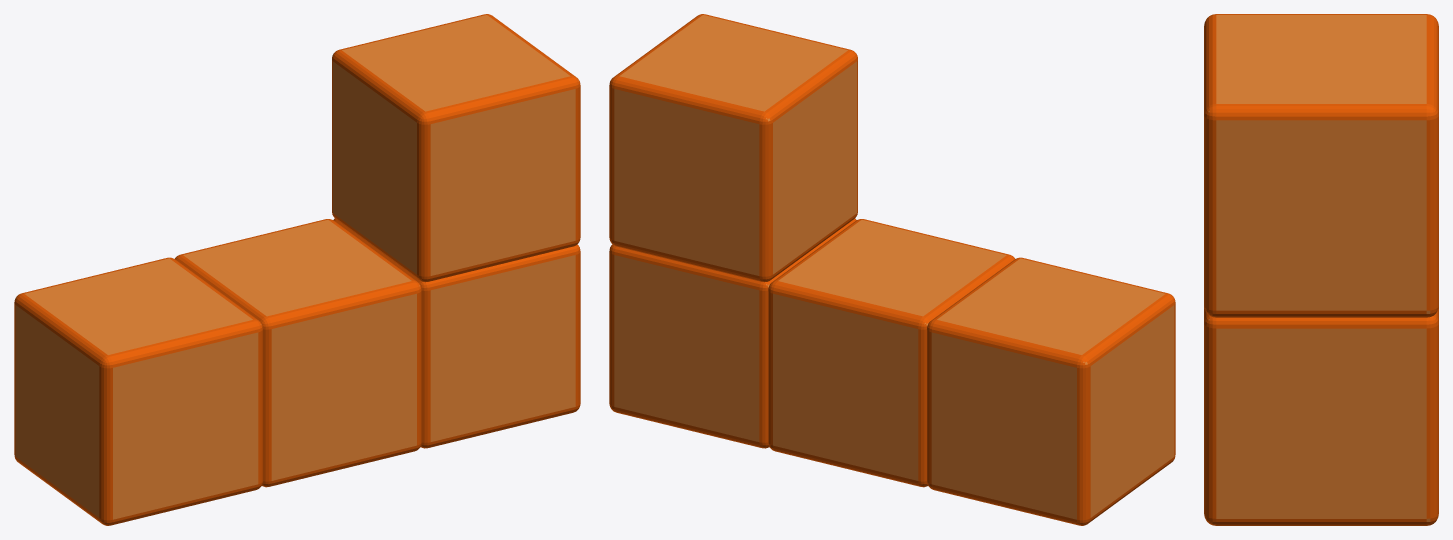
Rendered from orange.glb.
3 views of the same model, side by side, from view 1: azimuth 30°, elevation 25°; view 2: azimuth 150°, elevation 25°; view 3: azimuth 270°, elevation 25° (orthographic). The views are drawn at different scales.
Visible parts, largest first — view 1: Cube.004, Cube.005, Cube.001, Cube.003; view 2: Cube.004, Cube.005, Cube.001, Cube.003; view 3: Cube.005, Cube.003.
Part boxes in pixels (x1,y1,x2,y2): Cube.004: (14,257,262,525); Cube.005: (332,14,580,282); Cube.001: (175,219,421,487); Cube.003: (333,218,580,448); Cube.004: (927,257,1175,525); Cube.005: (609,14,857,282); Cube.001: (768,219,1014,487); Cube.003: (609,218,856,448); Cube.005: (1204,14,1438,317); Cube.003: (1204,306,1438,525).
Bounding box in the file's own units: 3.02 × 2.02 × 1.02.
